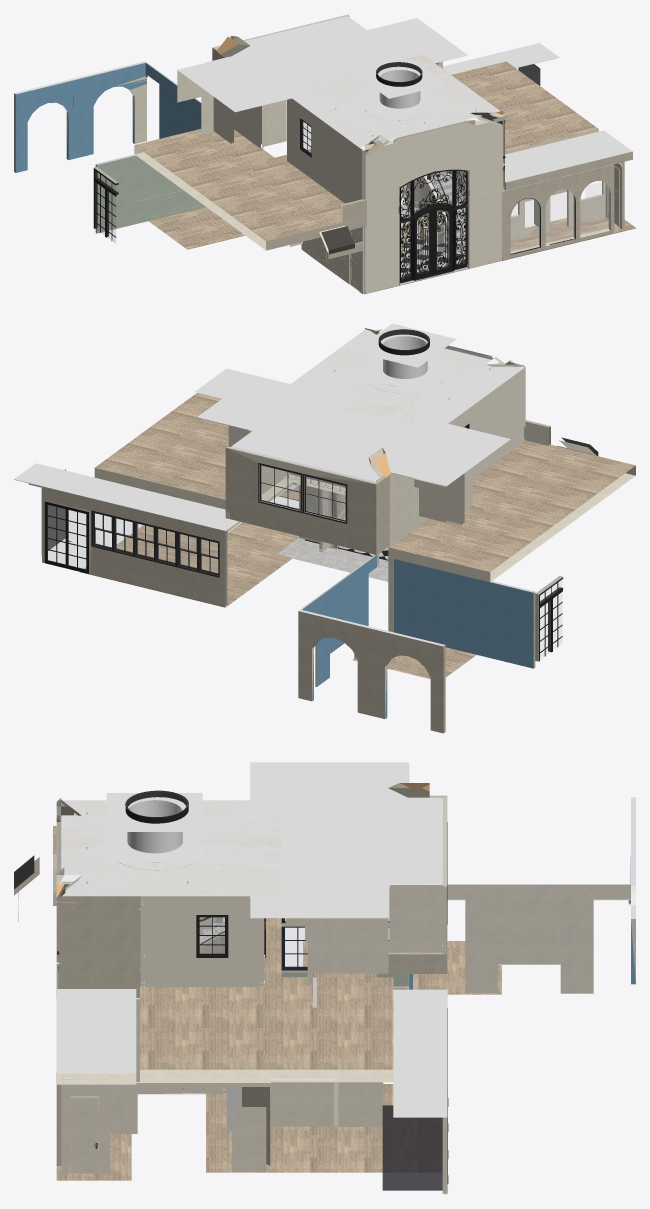
The model's file is entry-d00a002781d2.glb.
3 renders of one model, top to bottom at view 1: azimuth 30°, elevation 25°; view 2: azimuth 150°, elevation 25°; view 3: azimuth 270°, elevation 25°, orthographic. The views are drawn at different scales.
Visible parts, largest first — view 1: entry-look-2575515a05775d9e, entry-look-9d91b47435c6fb33, entry-4edf3a9420c06709, entry-9d91b47435c6fb33, entry-look-969b861f9850351e, entry-9ca48b730e5de4b2, entry-look-b19b106fc304963c, entry-746250f96522f643, entry-look-dbd60ee5c3733ed6, entry-look-c9e78b9ec1bb39cd, entry-785988ccf932ddd5, entry-969fb0f33943ba89 (+38 smaller); view 2: entry-look-2575515a05775d9e, entry-look-9d91b47435c6fb33, entry-look-b19b106fc304963c, entry-9d91b47435c6fb33, entry-look-969b861f9850351e, entry-look-245f595ae2832e16, entry-look-3b0077416469e01b, entry-look-bfb9fa537cd11d1d, entry-look-9a0e9ee9b2a451d7, entry-746250f96522f643, entry-look-3e6709f91b43c3bf, entry-e8793759323e04f0 (+20 smaller); view 3: entry-look-2575515a05775d9e, entry-look-9d91b47435c6fb33, entry-9d91b47435c6fb33, entry-look-3e6709f91b43c3bf, entry-look-3b0077416469e01b, entry-c51ecd664a3b22a3, entry-look-dbd60ee5c3733ed6, entry-look-9a0e9ee9b2a451d7, entry-62353aa10fc57f23, entry-e8793759323e04f0, entry-look-55ff1dfd7b659ec1, entry-look-cbd4bf73d9724a66 (+25 smaller).
Boxes of the visible parts, <box> form: entry-look-2575515a05775d9e: <box>134,61,598,250</box>; entry-look-9d91b47435c6fb33: <box>177,16,467,112</box>; entry-4edf3a9420c06709: <box>365,119,502,221</box>; entry-9d91b47435c6fb33: <box>281,56,499,149</box>; entry-look-969b861f9850351e: <box>14,61,146,172</box>; entry-9ca48b730e5de4b2: <box>364,189,502,293</box>; entry-look-b19b106fc304963c: <box>95,152,202,233</box>; entry-746250f96522f643: <box>287,98,360,203</box>; entry-look-dbd60ee5c3733ed6: <box>504,130,632,190</box>; entry-look-c9e78b9ec1bb39cd: <box>502,164,614,259</box>; entry-785988ccf932ddd5: <box>365,120,502,219</box>; entry-969fb0f33943ba89: <box>365,189,502,293</box>; entry-look-2575515a05775d9e: <box>94,393,635,582</box>; entry-look-9d91b47435c6fb33: <box>197,376,510,486</box>; entry-look-b19b106fc304963c: <box>396,559,535,668</box>; entry-9d91b47435c6fb33: <box>277,329,524,432</box>; entry-look-969b861f9850351e: <box>298,609,445,733</box>; entry-look-245f595ae2832e16: <box>225,446,376,555</box>; entry-look-3b0077416469e01b: <box>80,522,476,679</box>; entry-look-bfb9fa537cd11d1d: <box>42,486,227,606</box>; entry-look-9a0e9ee9b2a451d7: <box>14,463,238,530</box>; entry-746250f96522f643: <box>448,368,523,478</box>; entry-look-3e6709f91b43c3bf: <box>301,555,376,686</box>; entry-e8793759323e04f0: <box>283,330,524,425</box>; entry-look-2575515a05775d9e: <box>53,826,393,1082</box>; entry-look-9d91b47435c6fb33: <box>250,762,442,918</box>; entry-9d91b47435c6fb33: <box>61,800,281,896</box>; entry-look-3e6709f91b43c3bf: <box>447,884,630,993</box>; entry-look-3b0077416469e01b: <box>206,941,501,1172</box>; entry-c51ecd664a3b22a3: <box>144,896,263,986</box>; entry-look-dbd60ee5c3733ed6: <box>57,989,136,1084</box>; entry-look-9a0e9ee9b2a451d7: <box>393,989,447,1117</box>; entry-62353aa10fc57f23: <box>61,896,140,997</box>; entry-e8793759323e04f0: <box>58,798,281,895</box>; entry-look-55ff1dfd7b659ec1: <box>447,884,630,993</box>; entry-look-cbd4bf73d9724a66: <box>382,1105,442,1190</box>.
Size of the model in its own units: 21.07 by 7.94 by 18.
68 materials, 13 textured.
